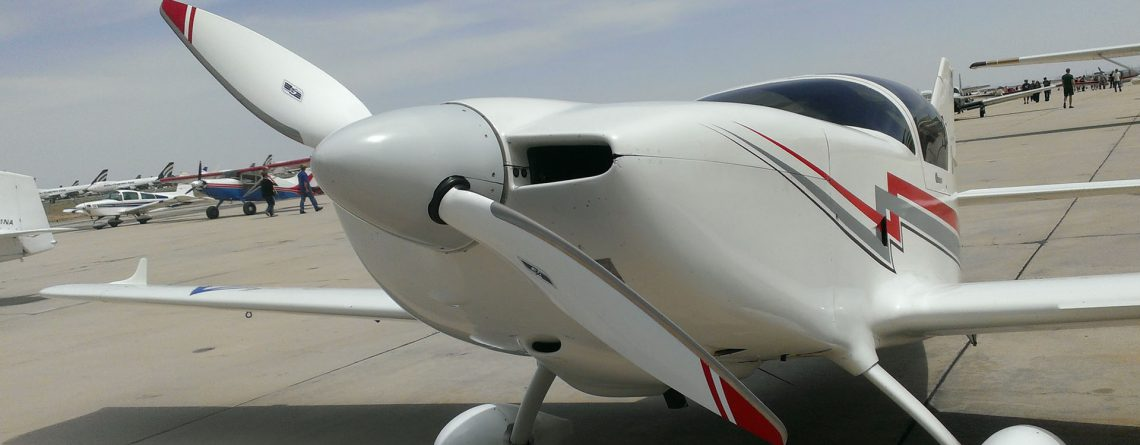Propeller: (163, 5, 798, 445)
